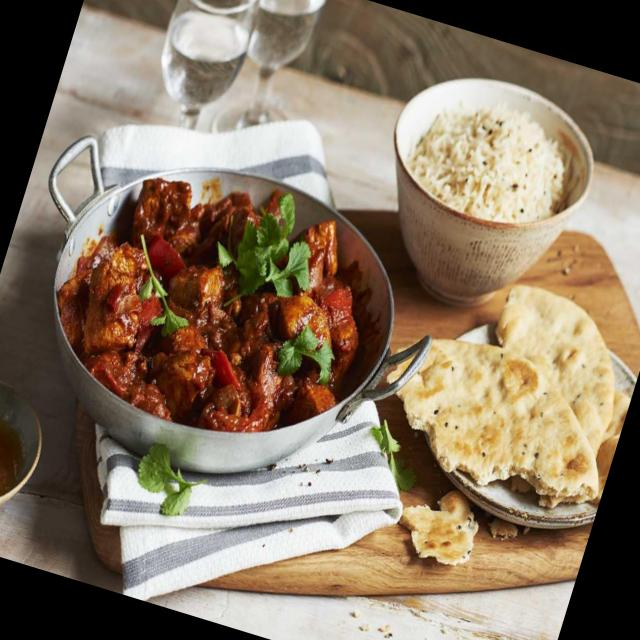chicken: (40, 138, 402, 466)
rice: (402, 102, 580, 233)
roti: (409, 287, 640, 524)
